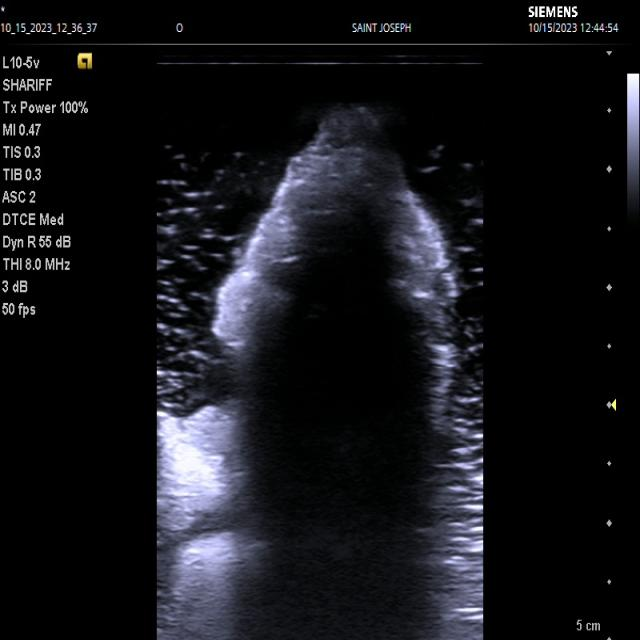tissue: (157, 108, 458, 640)
